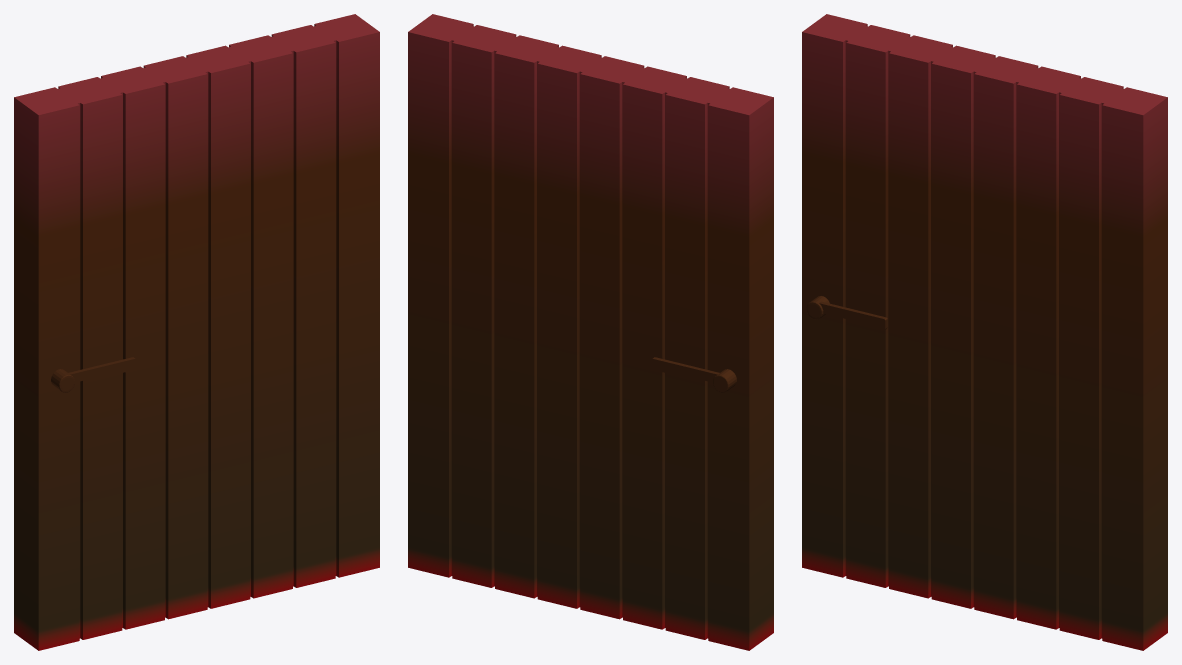
File: Door.fbx
3 views of the same model, side by side, from view 1: azimuth 30°, elevation 25°; view 2: azimuth 150°, elevation 25°; view 3: azimuth 330°, elevation 25° (orthographic).
Parts seen in each view (by area): view 1: Cube; view 2: Cube; view 3: Cube.
Part boxes in pixels (box(x1,y1,x2,y2)): Cube: box(14, 14, 379, 650); Cube: box(408, 14, 773, 650); Cube: box(802, 14, 1167, 650).
Bounding box in the file's own units: 400 × 600 × 84.
1 material, 1 textured.
